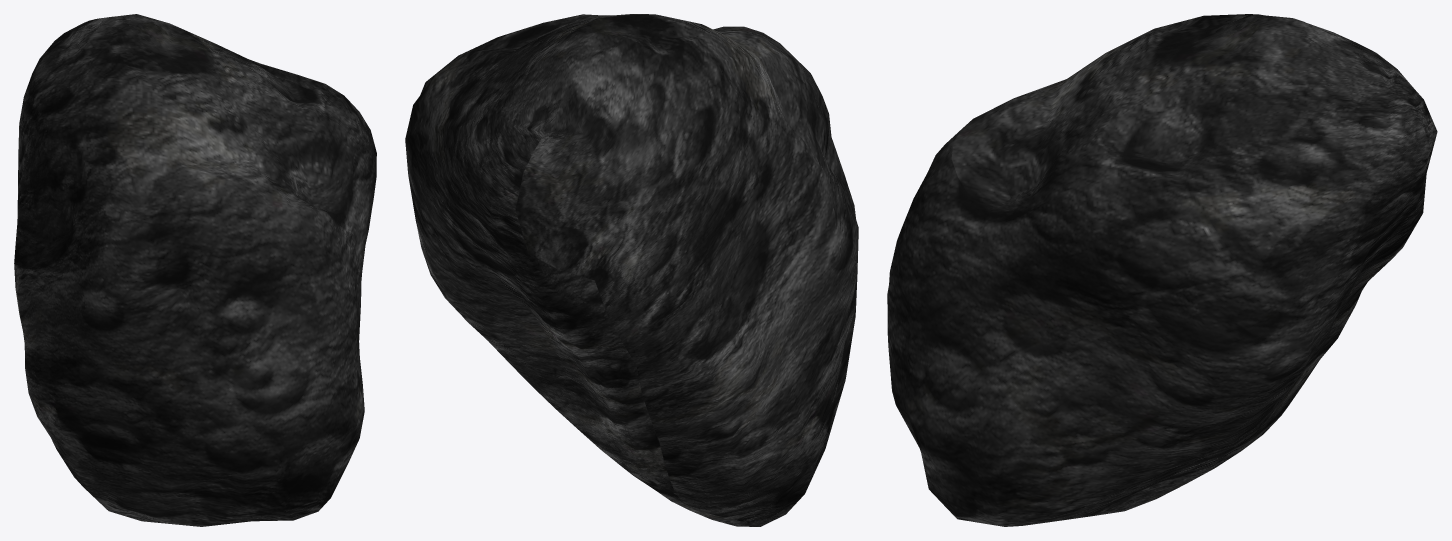
File: Single_asteroid_Medium_1.fbx
3 renders of one model, left to right at view 1: azimuth 30°, elevation 25°; view 2: azimuth 150°, elevation 25°; view 3: azimuth 270°, elevation 25°, orthographic. The views are drawn at different scales.
Visible parts, largest first — view 1: aster3; view 2: aster3; view 3: aster3.
Part boxes in pixels (left/top/right/bottom): aster3: left=14, top=14, right=376, bottom=526; aster3: left=405, top=14, right=858, bottom=526; aster3: left=887, top=14, right=1437, bottom=526.
Size of the model in its own units: 9.92 by 13.04 by 12.83.
Materials: 1 (1 with a texture image).
